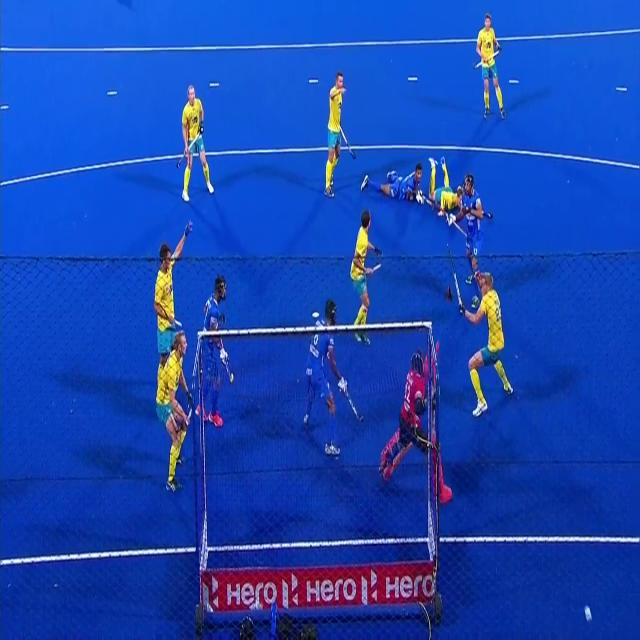ball: (583, 606, 595, 623)
